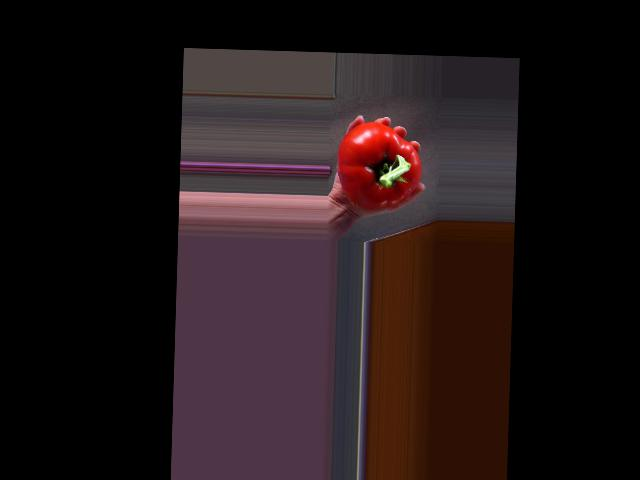tomato: (335, 120, 423, 210)
